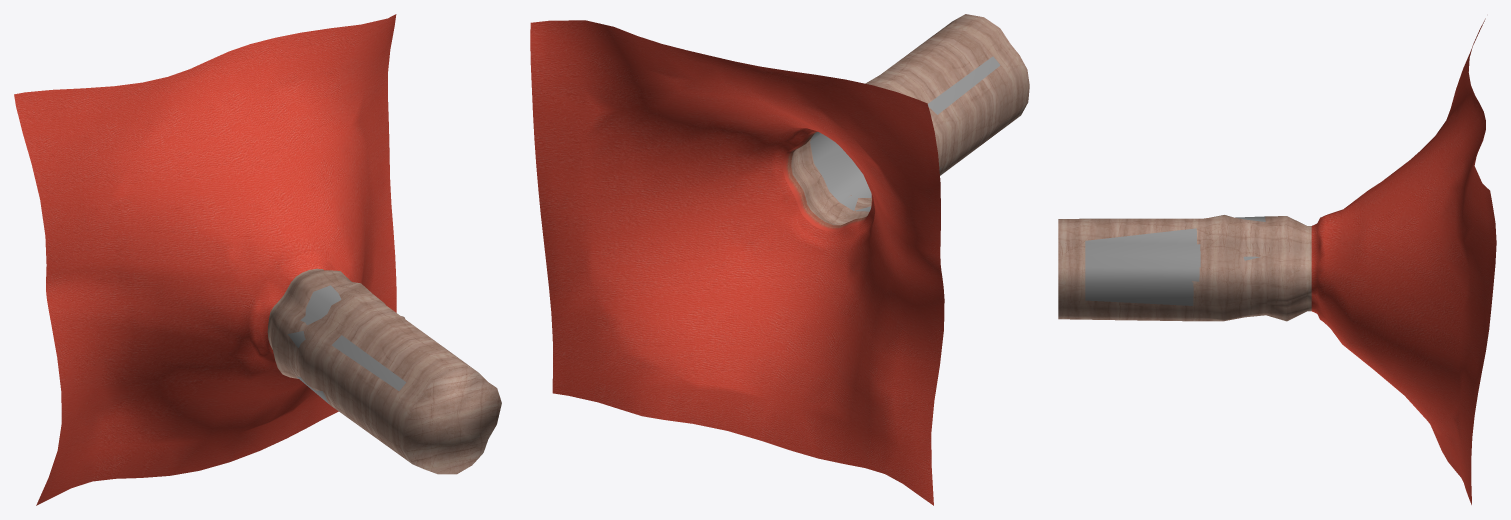
Rendered from Ground003.obj.
3 views of the same model, side by side, from view 1: azimuth 30°, elevation 25°; view 2: azimuth 150°, elevation 25°; view 3: azimuth 270°, elevation 25° (orthographic). The views are drawn at different scales.
Parts seen in each view (by area): view 1: pPlane135__GroundSandRed00_rep, pPlane125__WallRockSand00_rep, shape36__Black00; view 2: pPlane135__GroundSandRed00_rep, pPlane125__WallRockSand00_rep, shape36__Black00, pPlane126__WallRockEdge00_rep; view 3: pPlane135__GroundSandRed00_rep, pPlane125__WallRockSand00_rep, shape36__Black00.
Part boxes in pixels (<box>): pPlane135__GroundSandRed00_rep: <box>14,14,396,505</box>; pPlane125__WallRockSand00_rep: <box>267,268,501,474</box>; shape36__Black00: <box>287,285,406,403</box>; pPlane135__GroundSandRed00_rep: <box>530,20,944,505</box>; pPlane125__WallRockSand00_rep: <box>791,14,1029,225</box>; shape36__Black00: <box>810,56,1000,211</box>; pPlane126__WallRockEdge00_rep: <box>783,131,872,231</box>; pPlane135__GroundSandRed00_rep: <box>1311,18,1496,504</box>; pPlane125__WallRockSand00_rep: <box>1058,215,1311,321</box>; shape36__Black00: <box>1085,216,1265,305</box>.
Bounding box in the file's own units: 9366 × 9402 × 10554.
5 materials, 3 textured.
